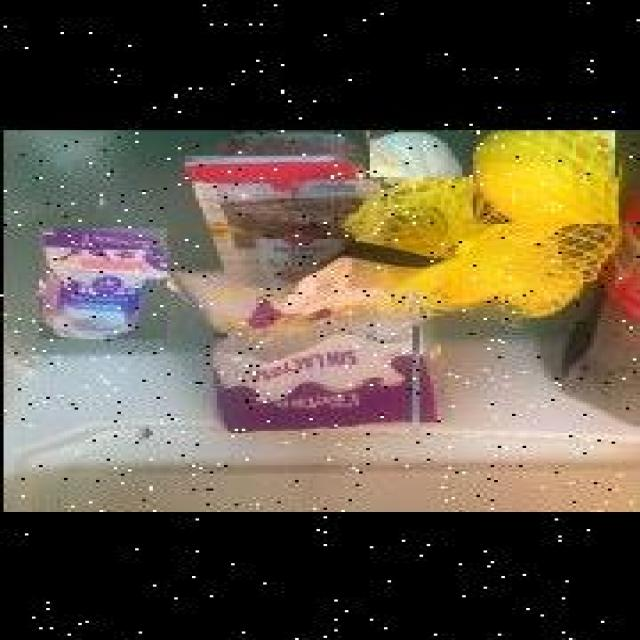garlic: (366, 128, 473, 175)
grated_cheese: (213, 292, 416, 431)
lemon: (473, 128, 619, 222)
yogurt: (41, 225, 169, 336)
